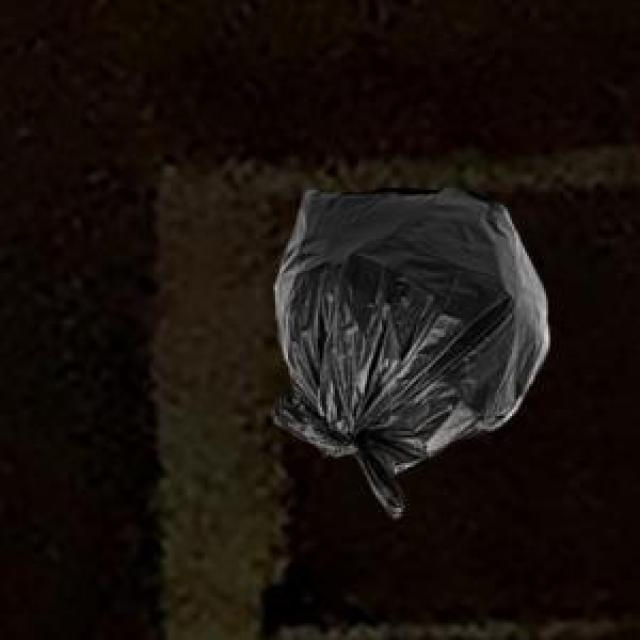waste: (274, 189, 549, 518)
